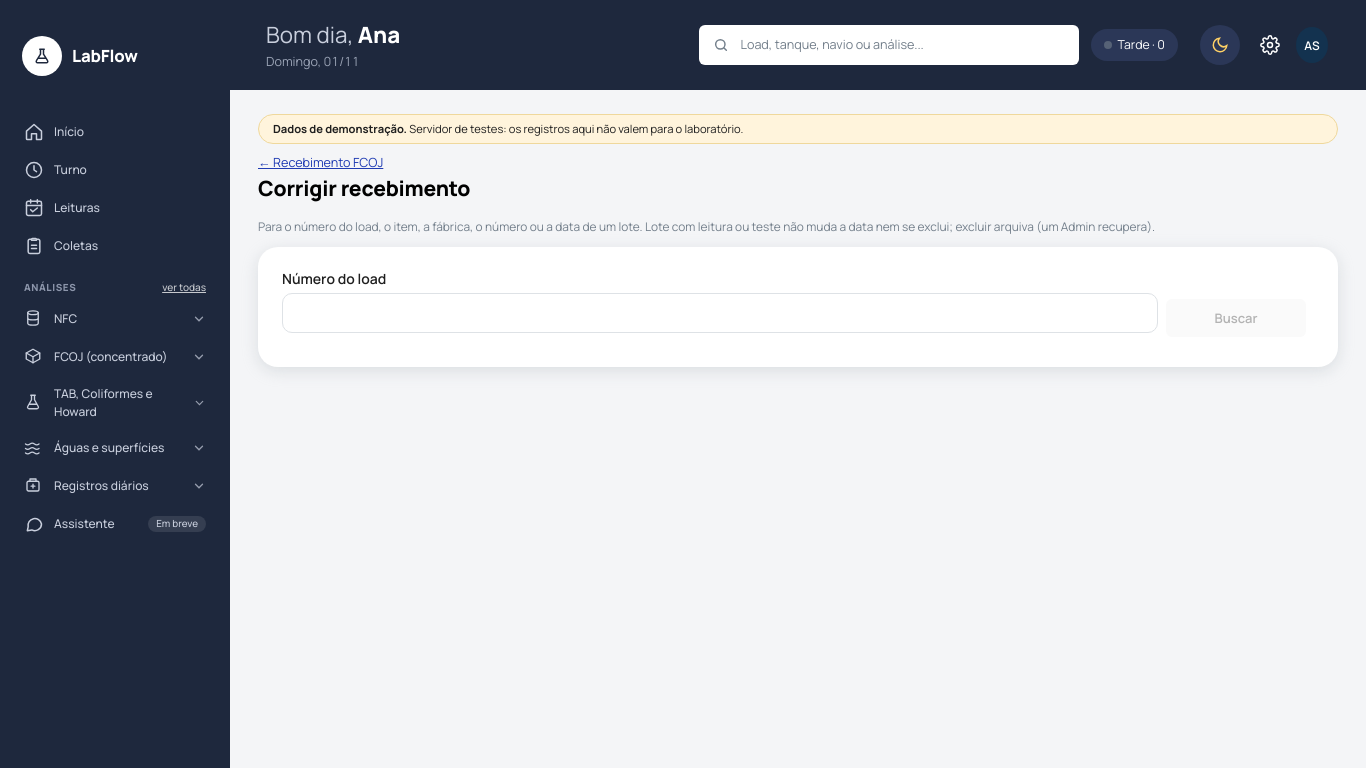
Test: Corrigir recebimento (APP-045) › busca o load e mostra a recusa do banco como veio
Type "98765" into the field labelled "Número do load" at coordinates (720, 313), box [282, 293, 1158, 333]
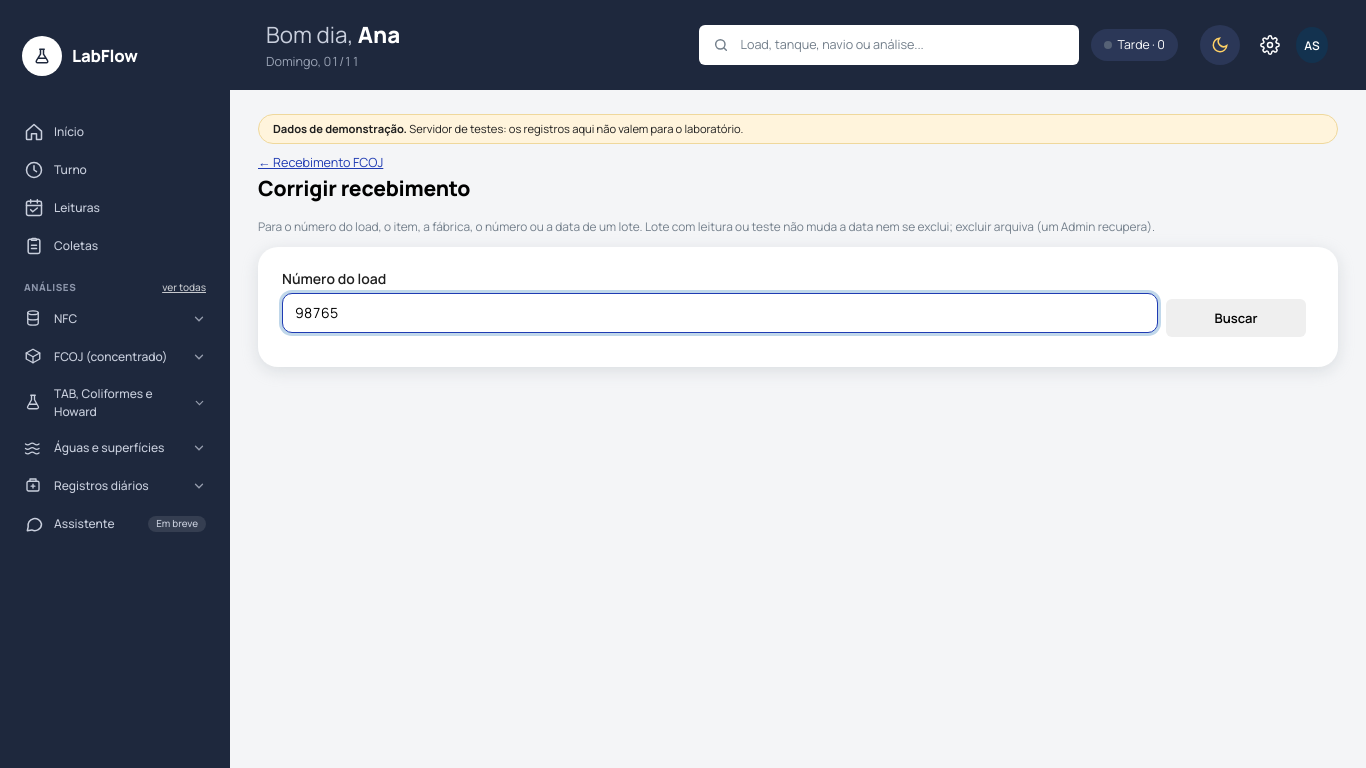
Click the button "Buscar" at coordinates (1236, 318), box [1166, 299, 1306, 337]
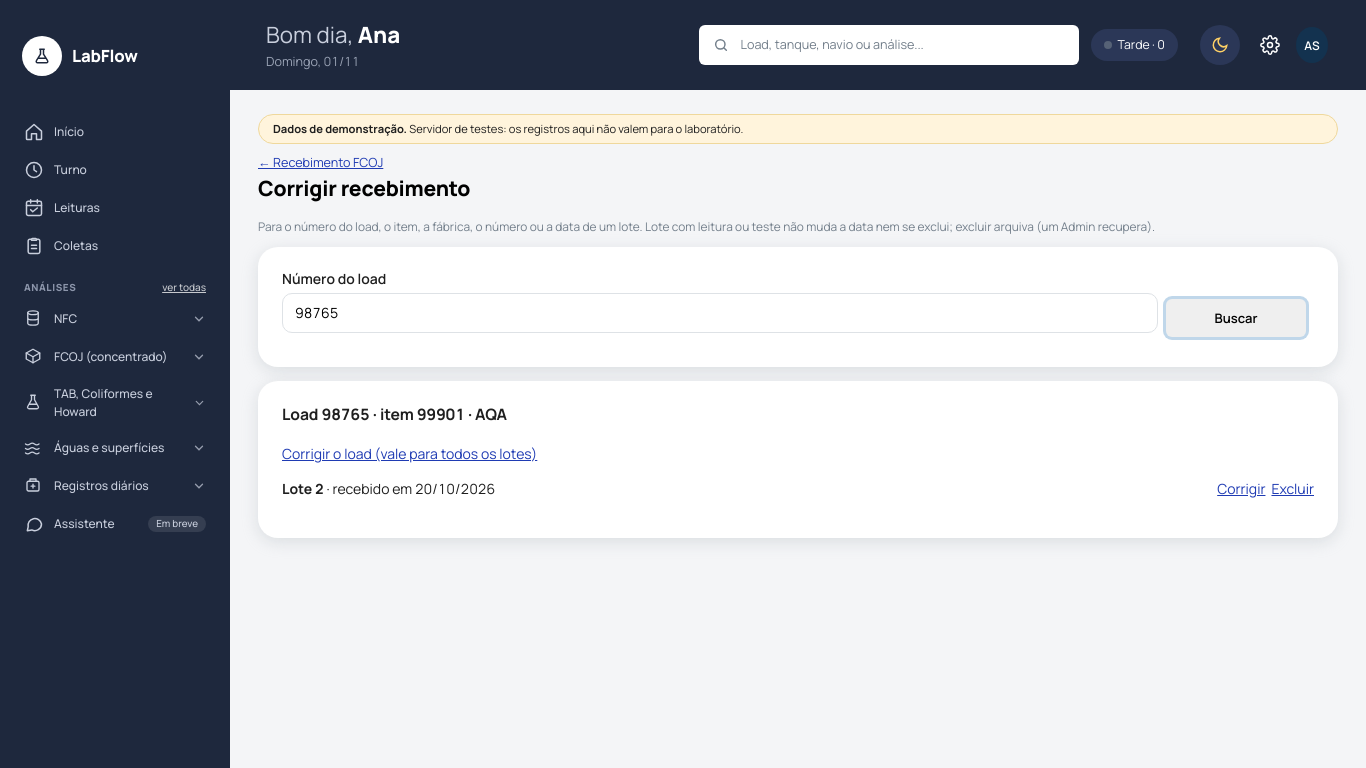
Click the button with aria-label "Corrigir o lote 2" at coordinates (1241, 489), box [1217, 473, 1266, 505]
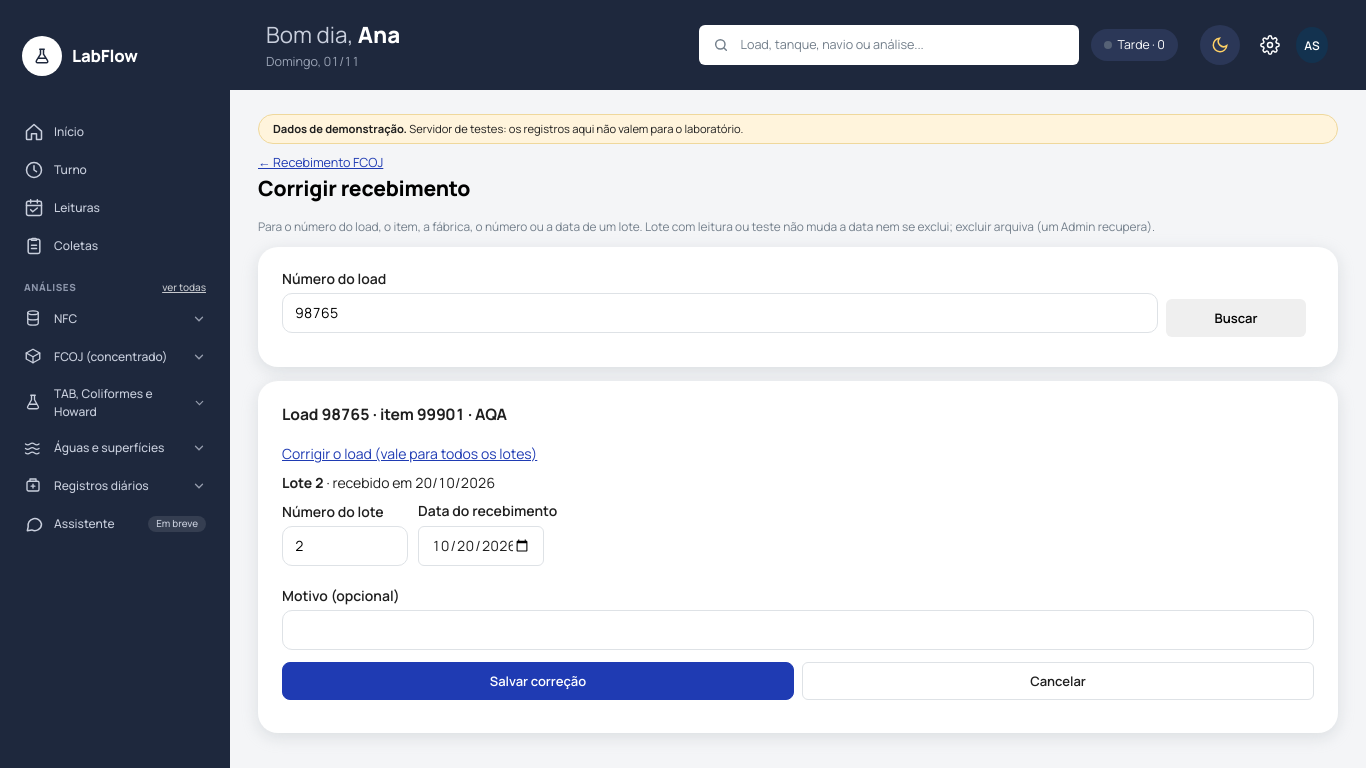
Replace the text in the field labelled "Número do lote" with "1" at coordinates (345, 546), box [282, 526, 408, 566]
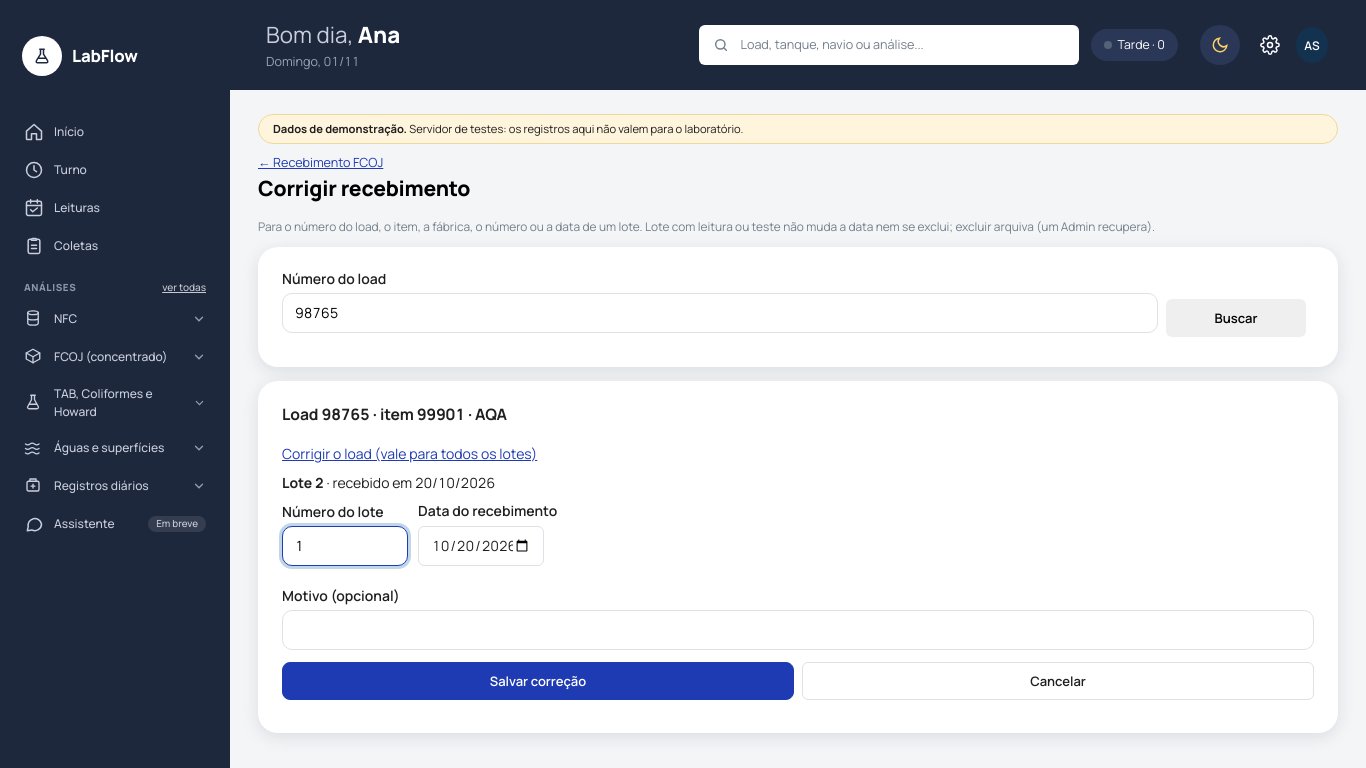
Click the button "Salvar correção" at coordinates (538, 681), box [282, 662, 794, 700]
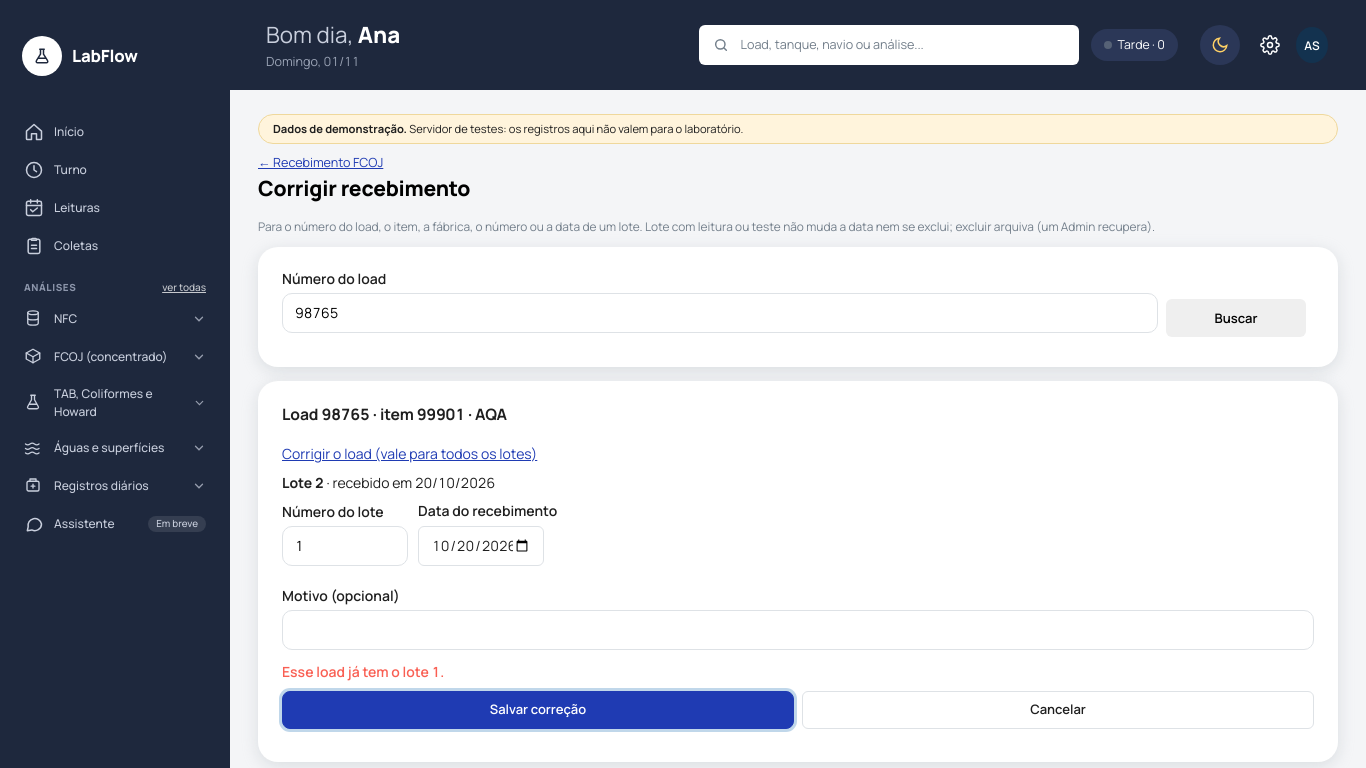
Expected: the message reads "Esse load já tem o lote 1.", [282, 662, 444, 681]
